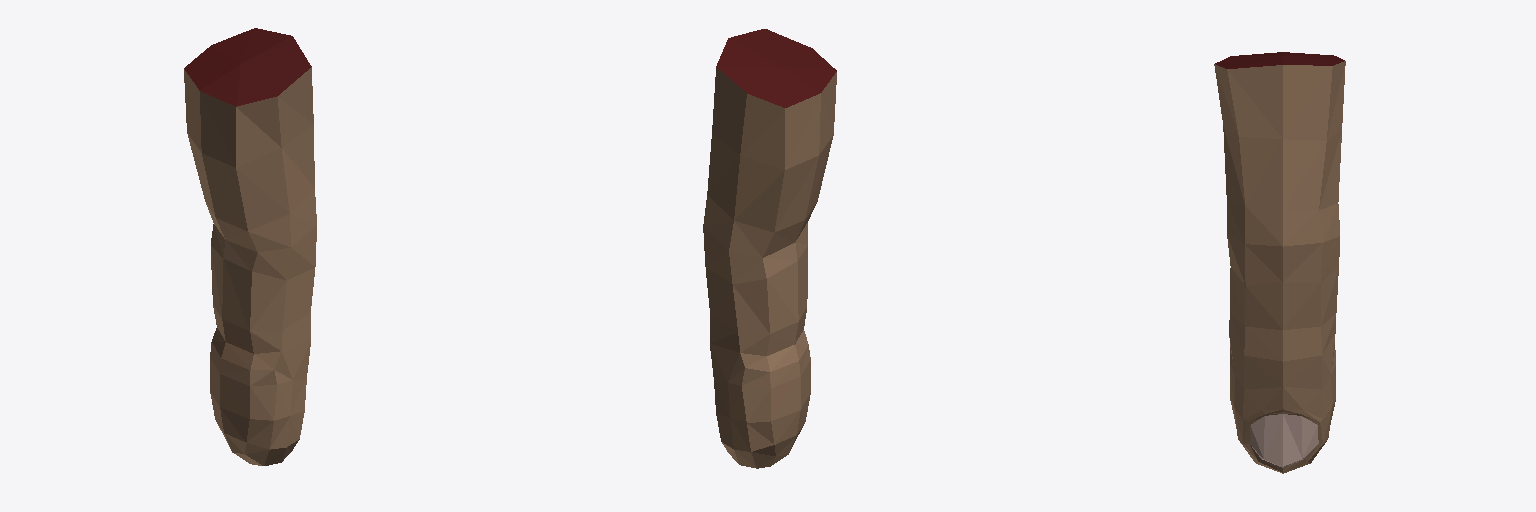
File: smudge-finger.obj
3 renders of one model, left to right at view 1: azimuth 30°, elevation 25°; view 2: azimuth 150°, elevation 25°; view 3: azimuth 270°, elevation 25°, orthographic.
Parts seen in each view (by area): view 1: finger_Plane.041_skin, finger_Plane.041_flesh; view 2: finger_Plane.041_skin, finger_Plane.041_flesh; view 3: finger_Plane.041_skin, finger_Plane.041_nail, finger_Plane.041_flesh.
Part boxes in pixels (x1,y1,x2,y2): finger_Plane.041_skin: (184, 67, 316, 465); finger_Plane.041_flesh: (184, 28, 311, 106); finger_Plane.041_skin: (703, 67, 836, 468); finger_Plane.041_flesh: (716, 29, 836, 107); finger_Plane.041_skin: (1214, 61, 1345, 473); finger_Plane.041_nail: (1249, 414, 1318, 467); finger_Plane.041_flesh: (1215, 52, 1344, 68).
Size of the model in its own units: 1.31 by 4.8 by 1.36.